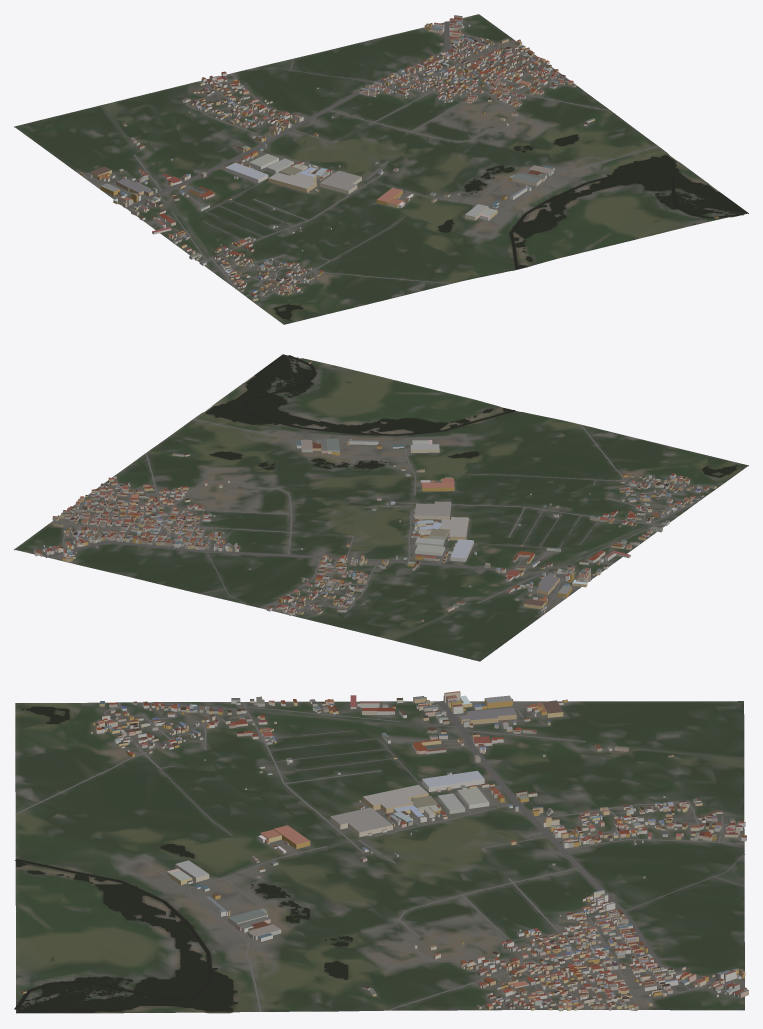
3 renders of one model, top to bottom at view 1: azimuth 30°, elevation 25°; view 2: azimuth 150°, elevation 25°; view 3: azimuth 270°, elevation 25°, orthographic. The views are drawn at different scales.
Parts seen in each view (by area): view 1: ground, buildings, water, roads; view 2: ground, buildings, water, roads; view 3: ground, buildings, water, roads.
Part boxes in pixels (x1,y1,x2,y2): ground: (14,14,748,324); buildings: (79,15,718,301); water: (273,134,747,320); roads: (83,21,658,321); ground: (14,354,748,661); buildings: (33,361,716,621); water: (205,354,737,477); roads: (45,419,734,616); ground: (15,701,744,1013); buildings: (20,691,748,1011); water: (14,706,353,1012); roads: (15,701,746,1011).
Bounding box in the file's own units: 1420 × 32.87 × 1414.
